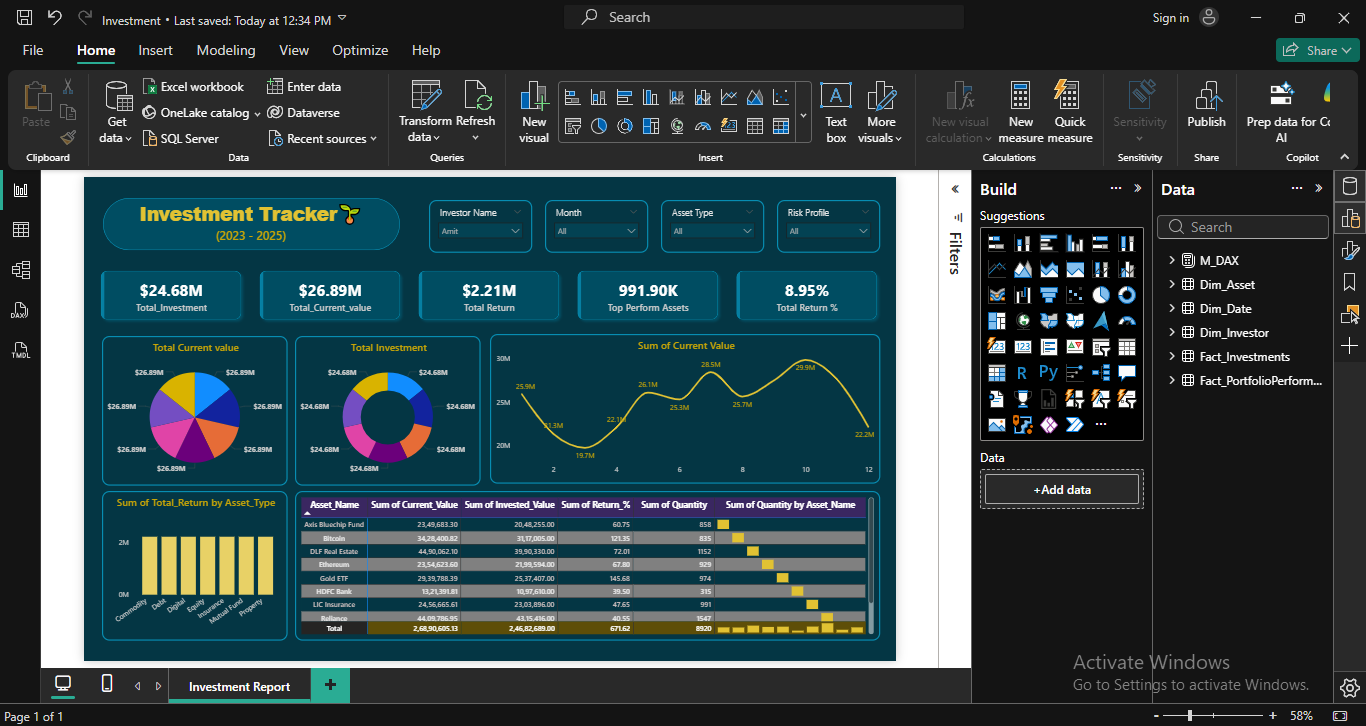

Layout of this report page (visuals, bound fields, positions):
{"tool":"powerbi","page":{"name":"Investment Report ","canvas":[1400,835],"ordinal":0},"visuals":[{"type":"cardVisual","fields":{"Data":["M_DAX.Total_Investment","M_DAX.Total_Current_value","M_DAX.Total Return","M_DAX.Top Perform Assets","M_DAX.Total Return %"]},"box":[0,132,1400,142],"z":0},{"type":"shape","box":[32,36,512,90],"z":1000},{"type":"card","fields":{"Values":["M_DAX.Title"]},"box":[88,28,400,74],"z":2000},{"type":"card","fields":{"Values":["M_DAX.Sub Title"]},"box":[120,72,334,60],"z":3000},{"type":"pieChart","title":"Total Current value ","fields":{"Y":["M_DAX.Total_Current_value"],"Category":["Dim_Asset.Asset_Type"]},"box":[31.1,273.3,320,257.8],"z":4000},{"type":"donutChart","title":"Total Investment ","fields":{"Y":["M_DAX.Total_Investment"],"Category":["Dim_Asset.Asset_Type"]},"box":[364.4,273.3,320,257.8],"z":5000},{"type":"lineChart","title":"Sum of Current Value ","fields":{"Category":["Dim_Date.Month Number"],"Y":["Sum(Fact_Investments.Current_Value)"]},"box":[700,271.1,673.3,257.8],"z":6000},{"type":"clusteredColumnChart","fields":{"Category":["Dim_Asset.Asset_Type"],"Y":["Sum(Fact_PortfolioPerformance.Total_Return)"]},"box":[31.1,542.2,320,257.8],"z":7000},{"type":"pivotTable","fields":{"Rows":["Dim_Asset.Asset_Name"],"Values":["Sum(Fact_Investments.Current_Value)","Sum(Fact_Investments.Invested_Value)","Sum(Fact_Investments.Return_%)","Sum(Fact_Investments.Quantity)","SparklineData(Sum(Fact_Investments.Quantity)_[Dim_Asset.Asset_Name])"]},"box":[364.4,542.2,1008.9,257.8],"z":8000},{"type":"slicer","fields":{"Values":["Dim_Investor.Investor_Name"]},"box":[595.6,40,177.8,91.1],"z":9000},{"type":"slicer","fields":{"Values":["Dim_Date.Month"]},"box":[795.6,40,177.8,91.1],"z":10000},{"type":"slicer","fields":{"Values":["Dim_Asset.Asset_Type"]},"box":[995.6,40,177.8,91.1],"z":11000},{"type":"slicer","fields":{"Values":["Dim_Investor.Risk_Profile"]},"box":[1195.6,40,177.8,91.1],"z":12000}]}

Visuals, with their boxes on the page's 1400x835 design canvas (x1, y1, x2, y2). These are canvas units, not pixel positions in the 1366x726 screenshot, which may show the page scaled, cropped or inside an application window:
cardVisual - M_DAX.Total_Investment x M_DAX.Total_Current_value: 0,132,1400,274
shape: 32,36,544,126
card - M_DAX.Title: 88,28,488,102
card - M_DAX.Sub Title: 120,72,454,132
"Total Current value " pieChart: 31,273,351,531
"Total Investment " donutChart: 364,273,684,531
"Sum of Current Value " lineChart: 700,271,1373,529
clusteredColumnChart - Dim_Asset.Asset_Type x Sum(Fact_PortfolioPerformance.Total_Return): 31,542,351,800
pivotTable - Dim_Asset.Asset_Name x Sum(Fact_Investments.Current_Value): 364,542,1373,800
slicer - Dim_Investor.Investor_Name: 596,40,773,131
slicer - Dim_Date.Month: 796,40,973,131
slicer - Dim_Asset.Asset_Type: 996,40,1173,131
slicer - Dim_Investor.Risk_Profile: 1196,40,1373,131
